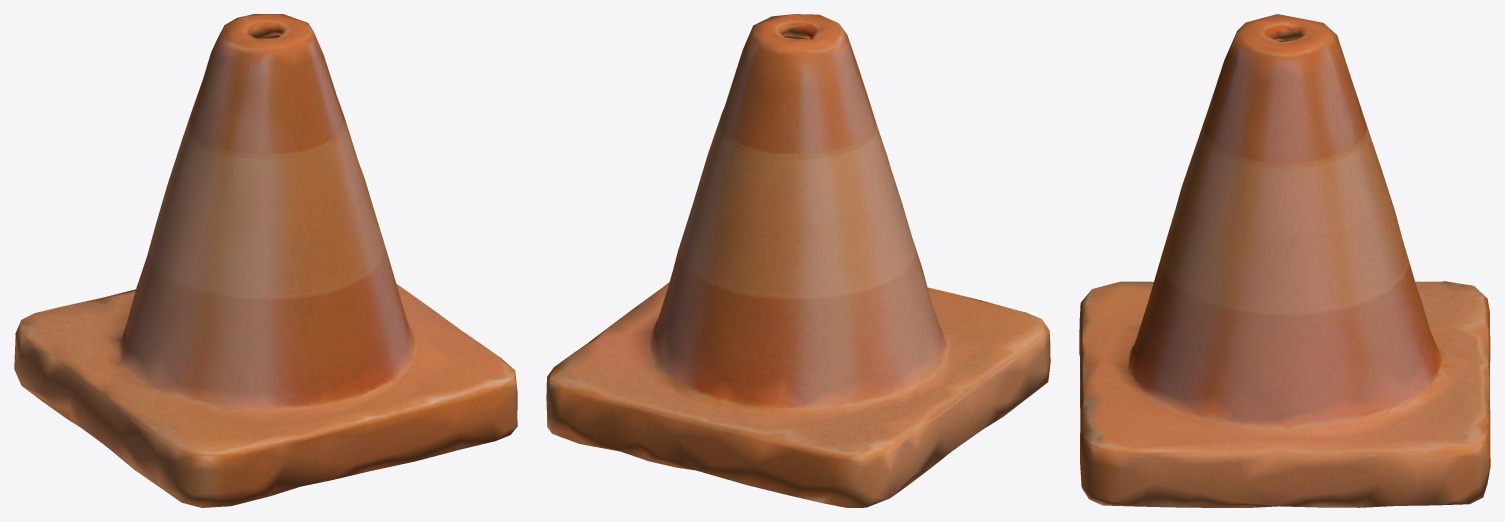
File: Prop_TrafficCone.glb
3 views of the same model, side by side, from view 1: azimuth 30°, elevation 25°; view 2: azimuth 150°, elevation 25°; view 3: azimuth 270°, elevation 25° (orthographic). The views are drawn at different scales.
Visible parts, largest first — view 1: input; view 2: input; view 3: input.
Part boxes in pixels (x1,y1,x2,y2): input: (14,14,517,507); input: (546,14,1050,507); input: (1079,14,1490,507).
Bounding box in the file's own units: 0.9569 × 1.01 × 0.9561.
1 material, 1 textured.
